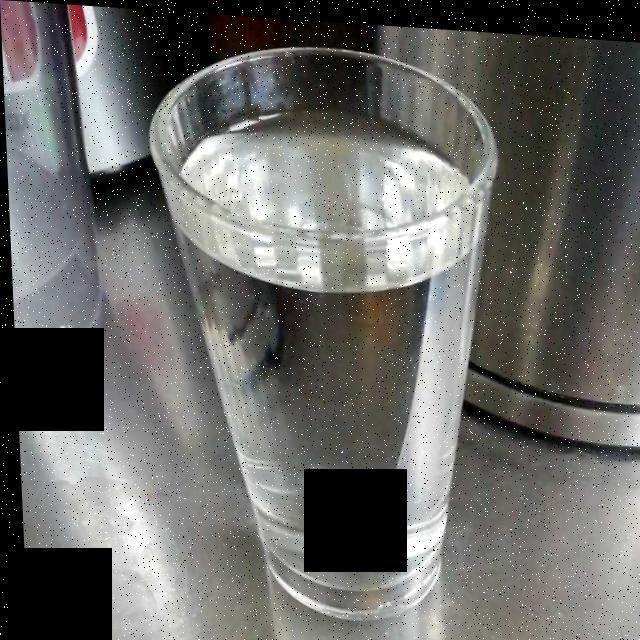water: (171, 111, 478, 583)
